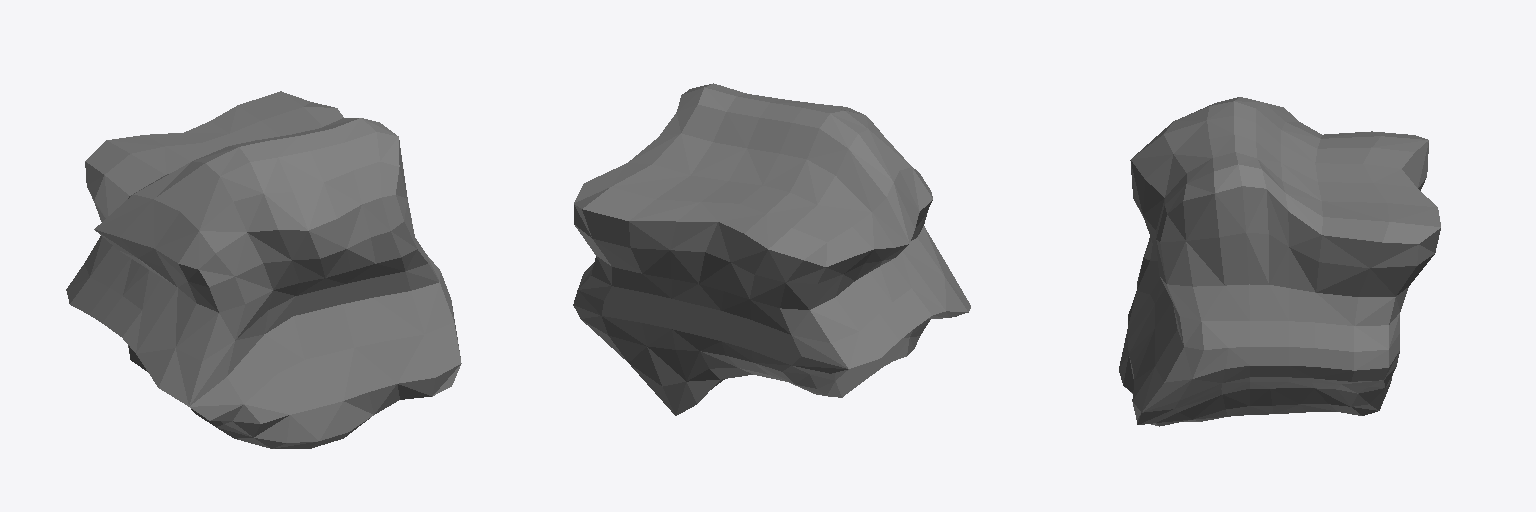
Rendered from meteoro.obj.
3 views of the same model, side by side, from view 1: azimuth 30°, elevation 25°; view 2: azimuth 150°, elevation 25°; view 3: azimuth 270°, elevation 25° (orthographic).
Visible parts, largest first — view 1: Box001; view 2: Box001; view 3: Box001.
Part boxes in pixels (bbox=[...]): Box001: bbox=[66, 91, 461, 448]; Box001: bbox=[573, 83, 970, 415]; Box001: bbox=[1119, 97, 1440, 426].
Bounding box in the file's own units: 90.73 × 77.33 × 83.49.